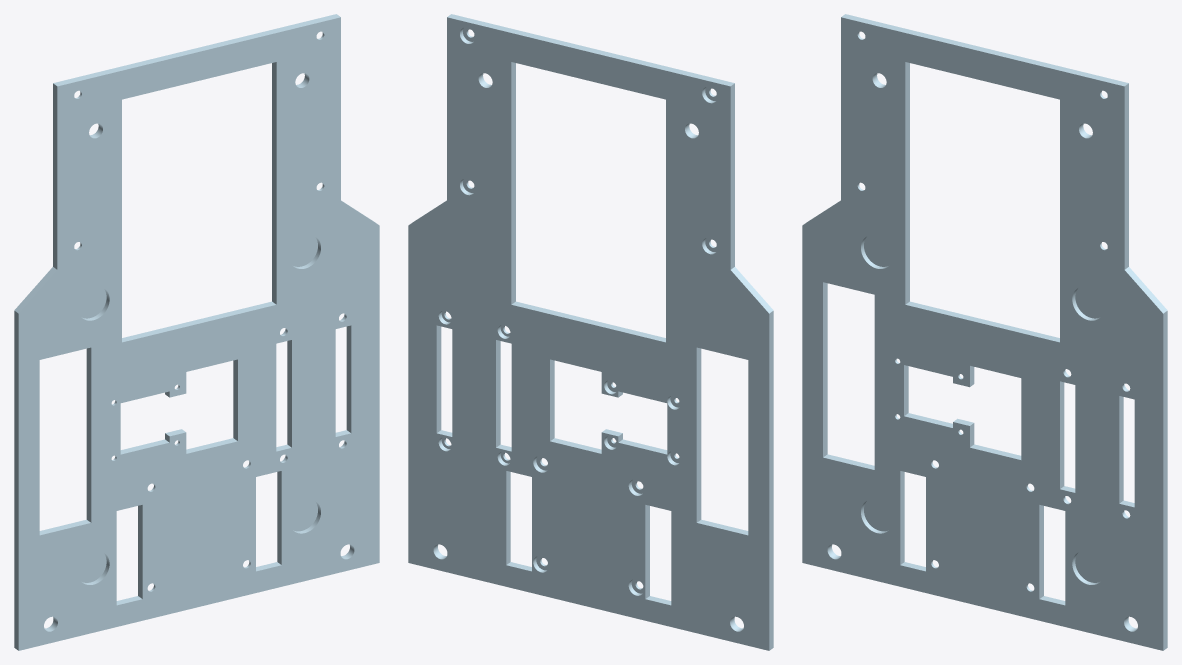
The model's file is upperbody.gltf.
3 views of the same model, side by side, from view 1: azimuth 30°, elevation 25°; view 2: azimuth 150°, elevation 25°; view 3: azimuth 330°, elevation 25° (orthographic).
Visible parts, largest first — view 1: mesh3157, mesh3158, mesh3163, mesh3194, mesh3198, mesh3164, mesh3195, mesh3155, mesh3245, mesh3247, mesh3243, mesh3166 (+1 smaller); view 2: mesh3257, mesh3158, mesh3163, mesh3194, mesh3198, mesh3164, mesh3195, mesh3166, mesh3170; view 3: mesh3157, mesh3160, mesh3163, mesh3197, mesh3162, mesh3201, mesh3195, mesh3247, mesh3243, mesh3155, mesh3245, mesh3169 (+1 smaller).
Part boxes in pixels (bbox=[...]): mesh3157: bbox=[18, 17, 379, 650]; mesh3158: bbox=[14, 311, 18, 650]; mesh3163: bbox=[53, 14, 340, 86]; mesh3194: bbox=[272, 62, 276, 304]; mesh3198: bbox=[86, 347, 91, 522]; mesh3164: bbox=[53, 83, 57, 269]; mesh3195: bbox=[122, 301, 276, 342]; mesh3155: bbox=[77, 286, 106, 318]; mesh3245: bbox=[77, 550, 106, 582]; mesh3247: bbox=[289, 234, 317, 266]; mesh3243: bbox=[289, 499, 317, 531]; mesh3166: bbox=[346, 325, 351, 432]; mesh3257: bbox=[408, 17, 769, 650]; mesh3158: bbox=[769, 311, 773, 650]; mesh3163: bbox=[447, 14, 734, 86]; mesh3194: bbox=[511, 62, 515, 304]; mesh3198: bbox=[696, 347, 701, 522]; mesh3164: bbox=[730, 83, 734, 269]; mesh3195: bbox=[511, 301, 665, 342]; mesh3166: bbox=[436, 325, 441, 432]; mesh3170: bbox=[496, 340, 500, 447]; mesh3157: bbox=[802, 17, 1163, 650]; mesh3160: bbox=[1163, 311, 1167, 650]; mesh3163: bbox=[841, 14, 1128, 86]; mesh3197: bbox=[905, 62, 909, 304]; mesh3162: bbox=[1124, 83, 1128, 269]; mesh3201: bbox=[823, 282, 827, 457]; mesh3195: bbox=[905, 301, 1059, 342]; mesh3247: bbox=[1075, 286, 1104, 318]; mesh3243: bbox=[1075, 550, 1104, 582]; mesh3155: bbox=[864, 234, 892, 266]; mesh3245: bbox=[864, 499, 892, 531]; mesh3169: bbox=[1119, 396, 1123, 503].
Bounding box in the file's own units: 0.14 × 0.2057 × 0.003.
